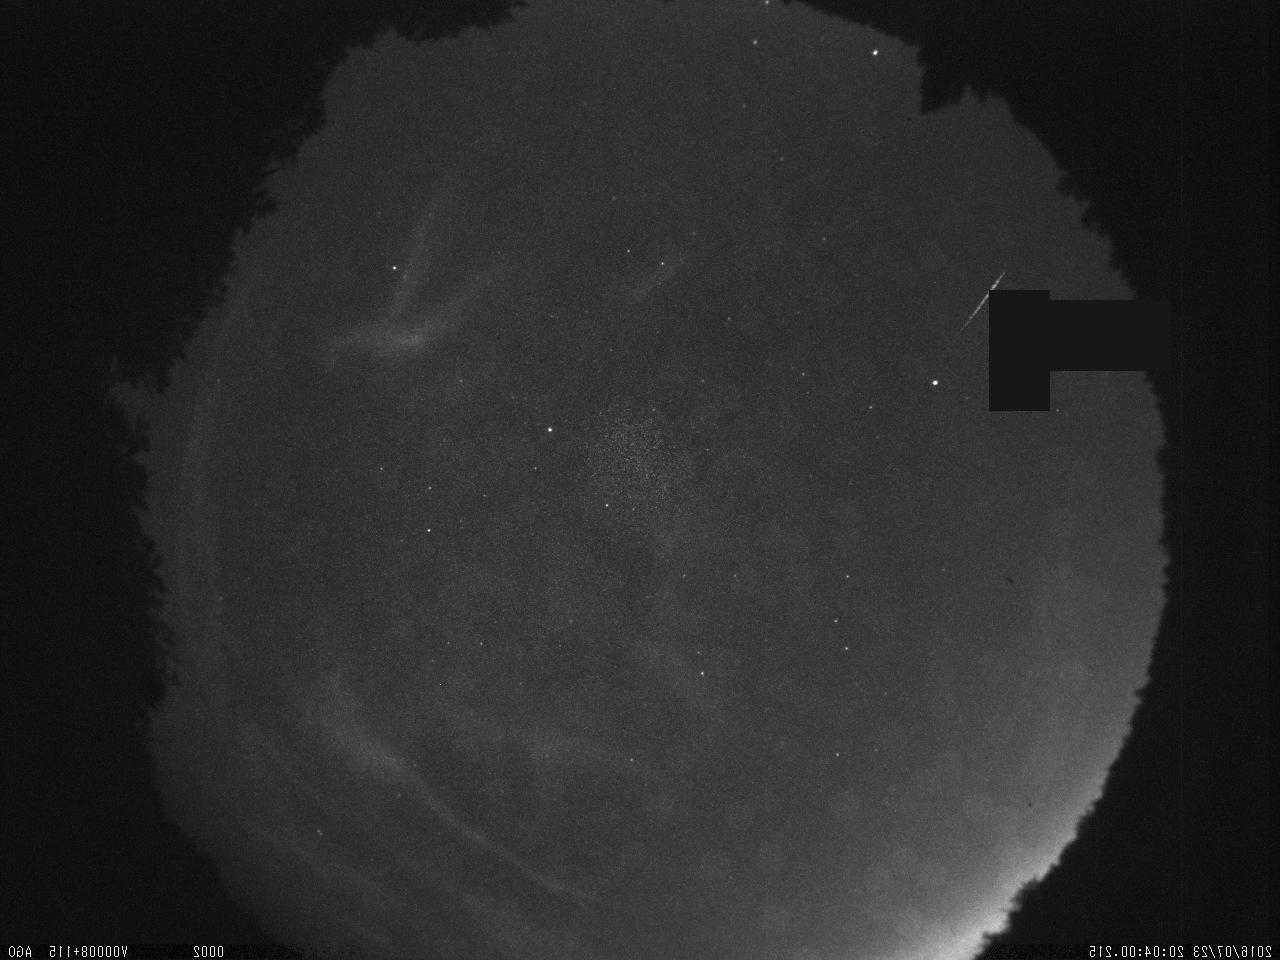meteor: (952, 262, 1011, 342)
